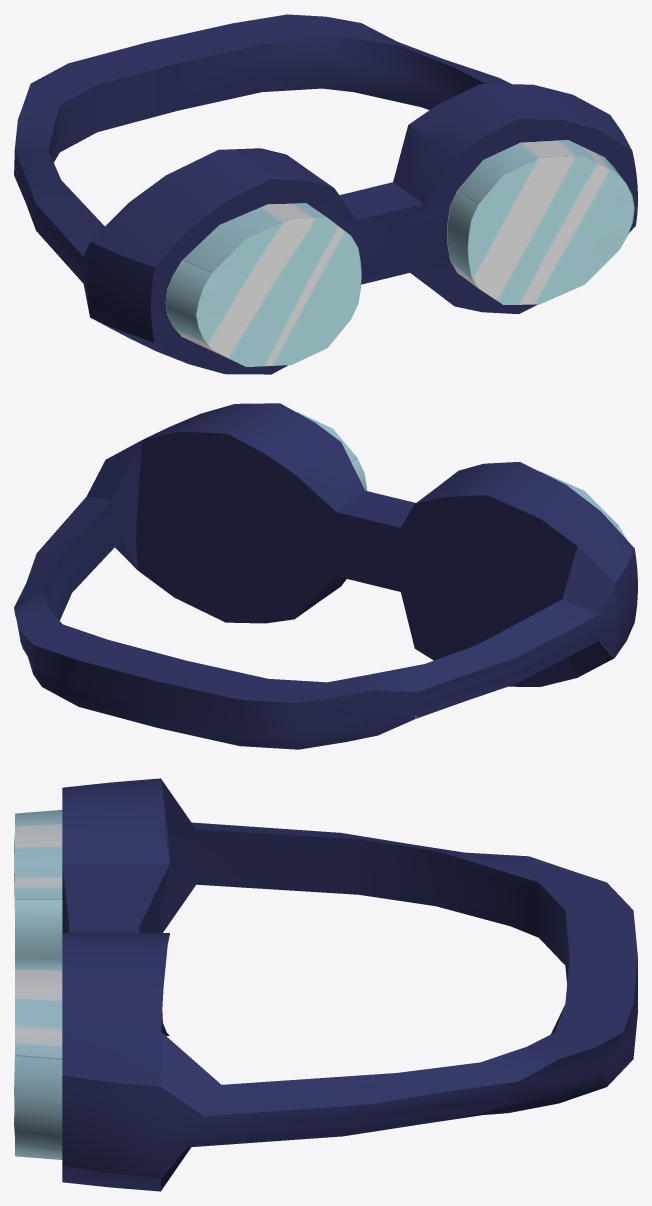
Rendered from goggles.glb.
The picture shows the model from 3 angles, top to bottom: view 1: azimuth 30°, elevation 25°; view 2: azimuth 150°, elevation 25°; view 3: azimuth 270°, elevation 25°; orthographic projection. The views are drawn at different scales.
Parts seen in each view (by area): view 1: goggles; view 2: goggles; view 3: goggles.
Part boxes in pixels (bbox=[...]): goggles: bbox=[14, 14, 637, 374]; goggles: bbox=[14, 403, 637, 749]; goggles: bbox=[14, 778, 637, 1191].
Size of the model in its own units: 2.61 by 0.9226 by 2.29.
Materials: 1 (1 with a texture image).
